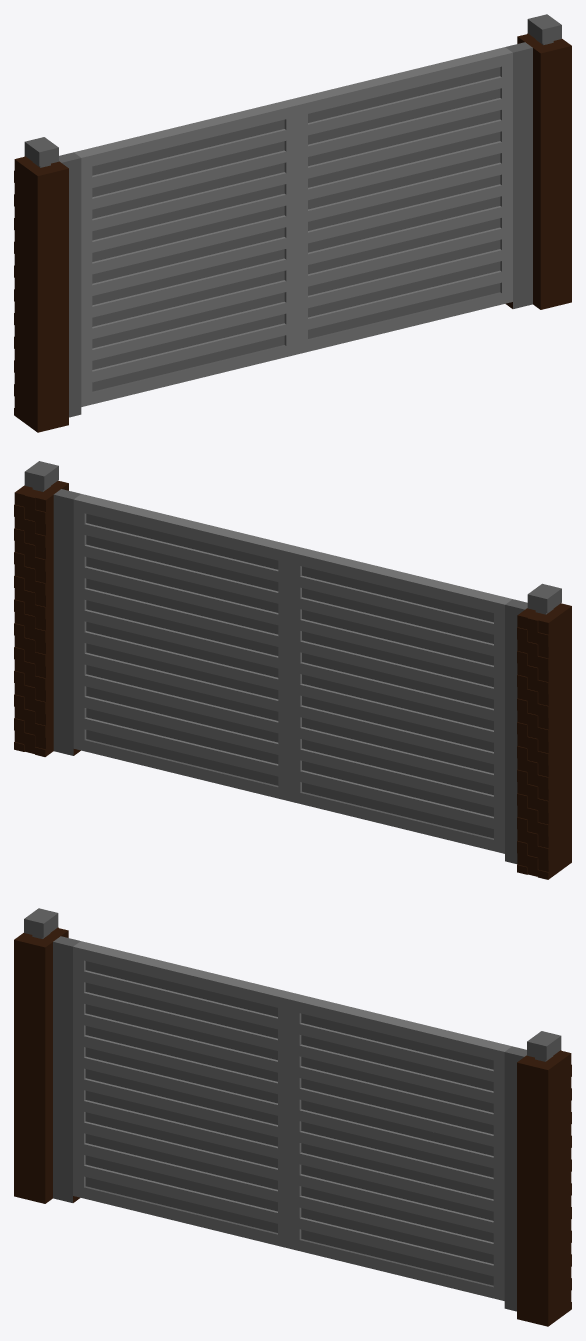
File: Gate.fbx
3 renders of one model, top to bottom at view 1: azimuth 30°, elevation 25°; view 2: azimuth 150°, elevation 25°; view 3: azimuth 330°, elevation 25°, orthographic.
Visible parts, largest first — view 1: Cube; view 2: Cube; view 3: Cube.
Boxes of the visible parts, left/top/right/bottom form: Cube: left=14, top=14, right=571, bottom=432; Cube: left=14, top=461, right=571, bottom=879; Cube: left=14, top=908, right=571, bottom=1326.
Bounding box in the file's own units: 1328 × 655 × 102.
